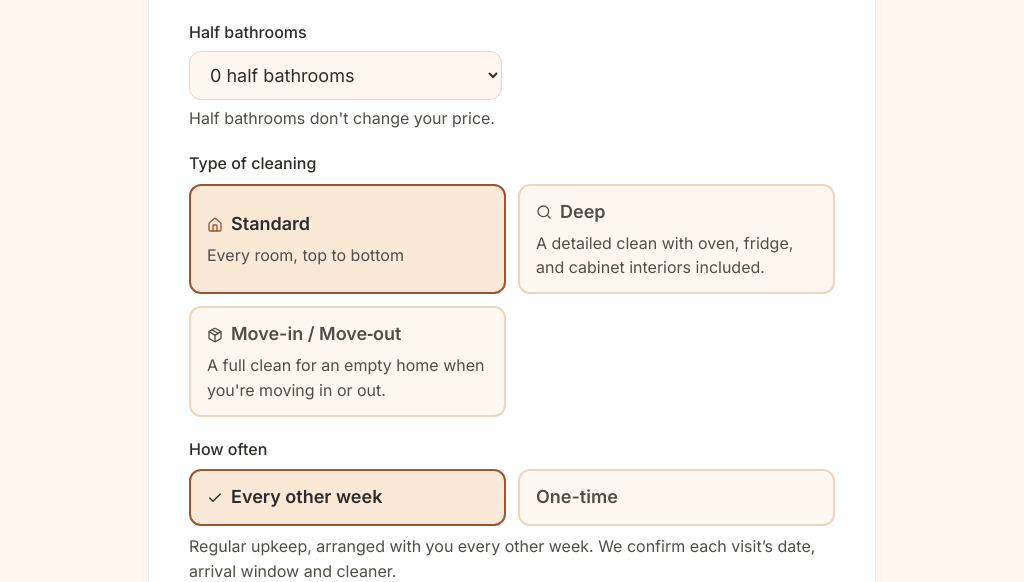
it: fix8 — clarity: step-1 validation is never silent › Continue with an empty ZIP shows a red error under the ZIP field
(page scrolled)
Click the radio button labelled "Deep": {"x": 676, "y": 239} [518,184,835,294]
(page scrolled)
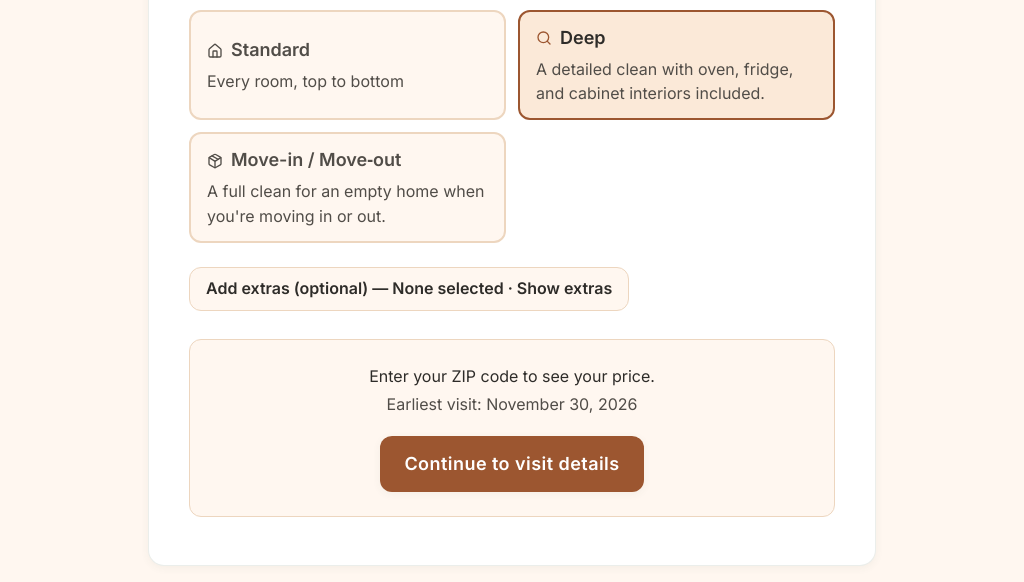
Click the button "Continue to visit details": {"x": 512, "y": 464} [380,436,644,492]
(page scrolled)
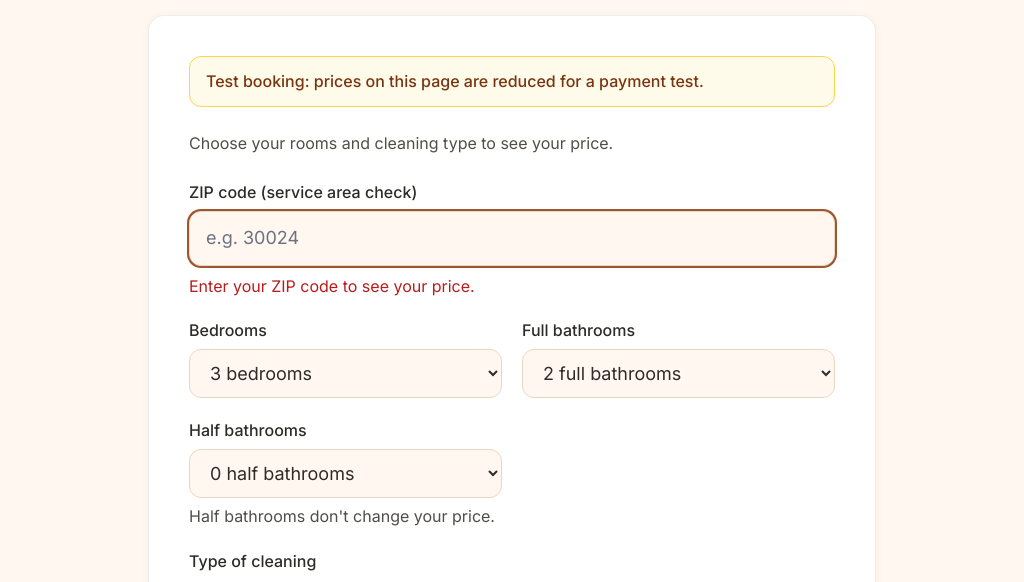
Expected: the message reads "Enter your ZIP code to see your price.", [189,276,475,296]
